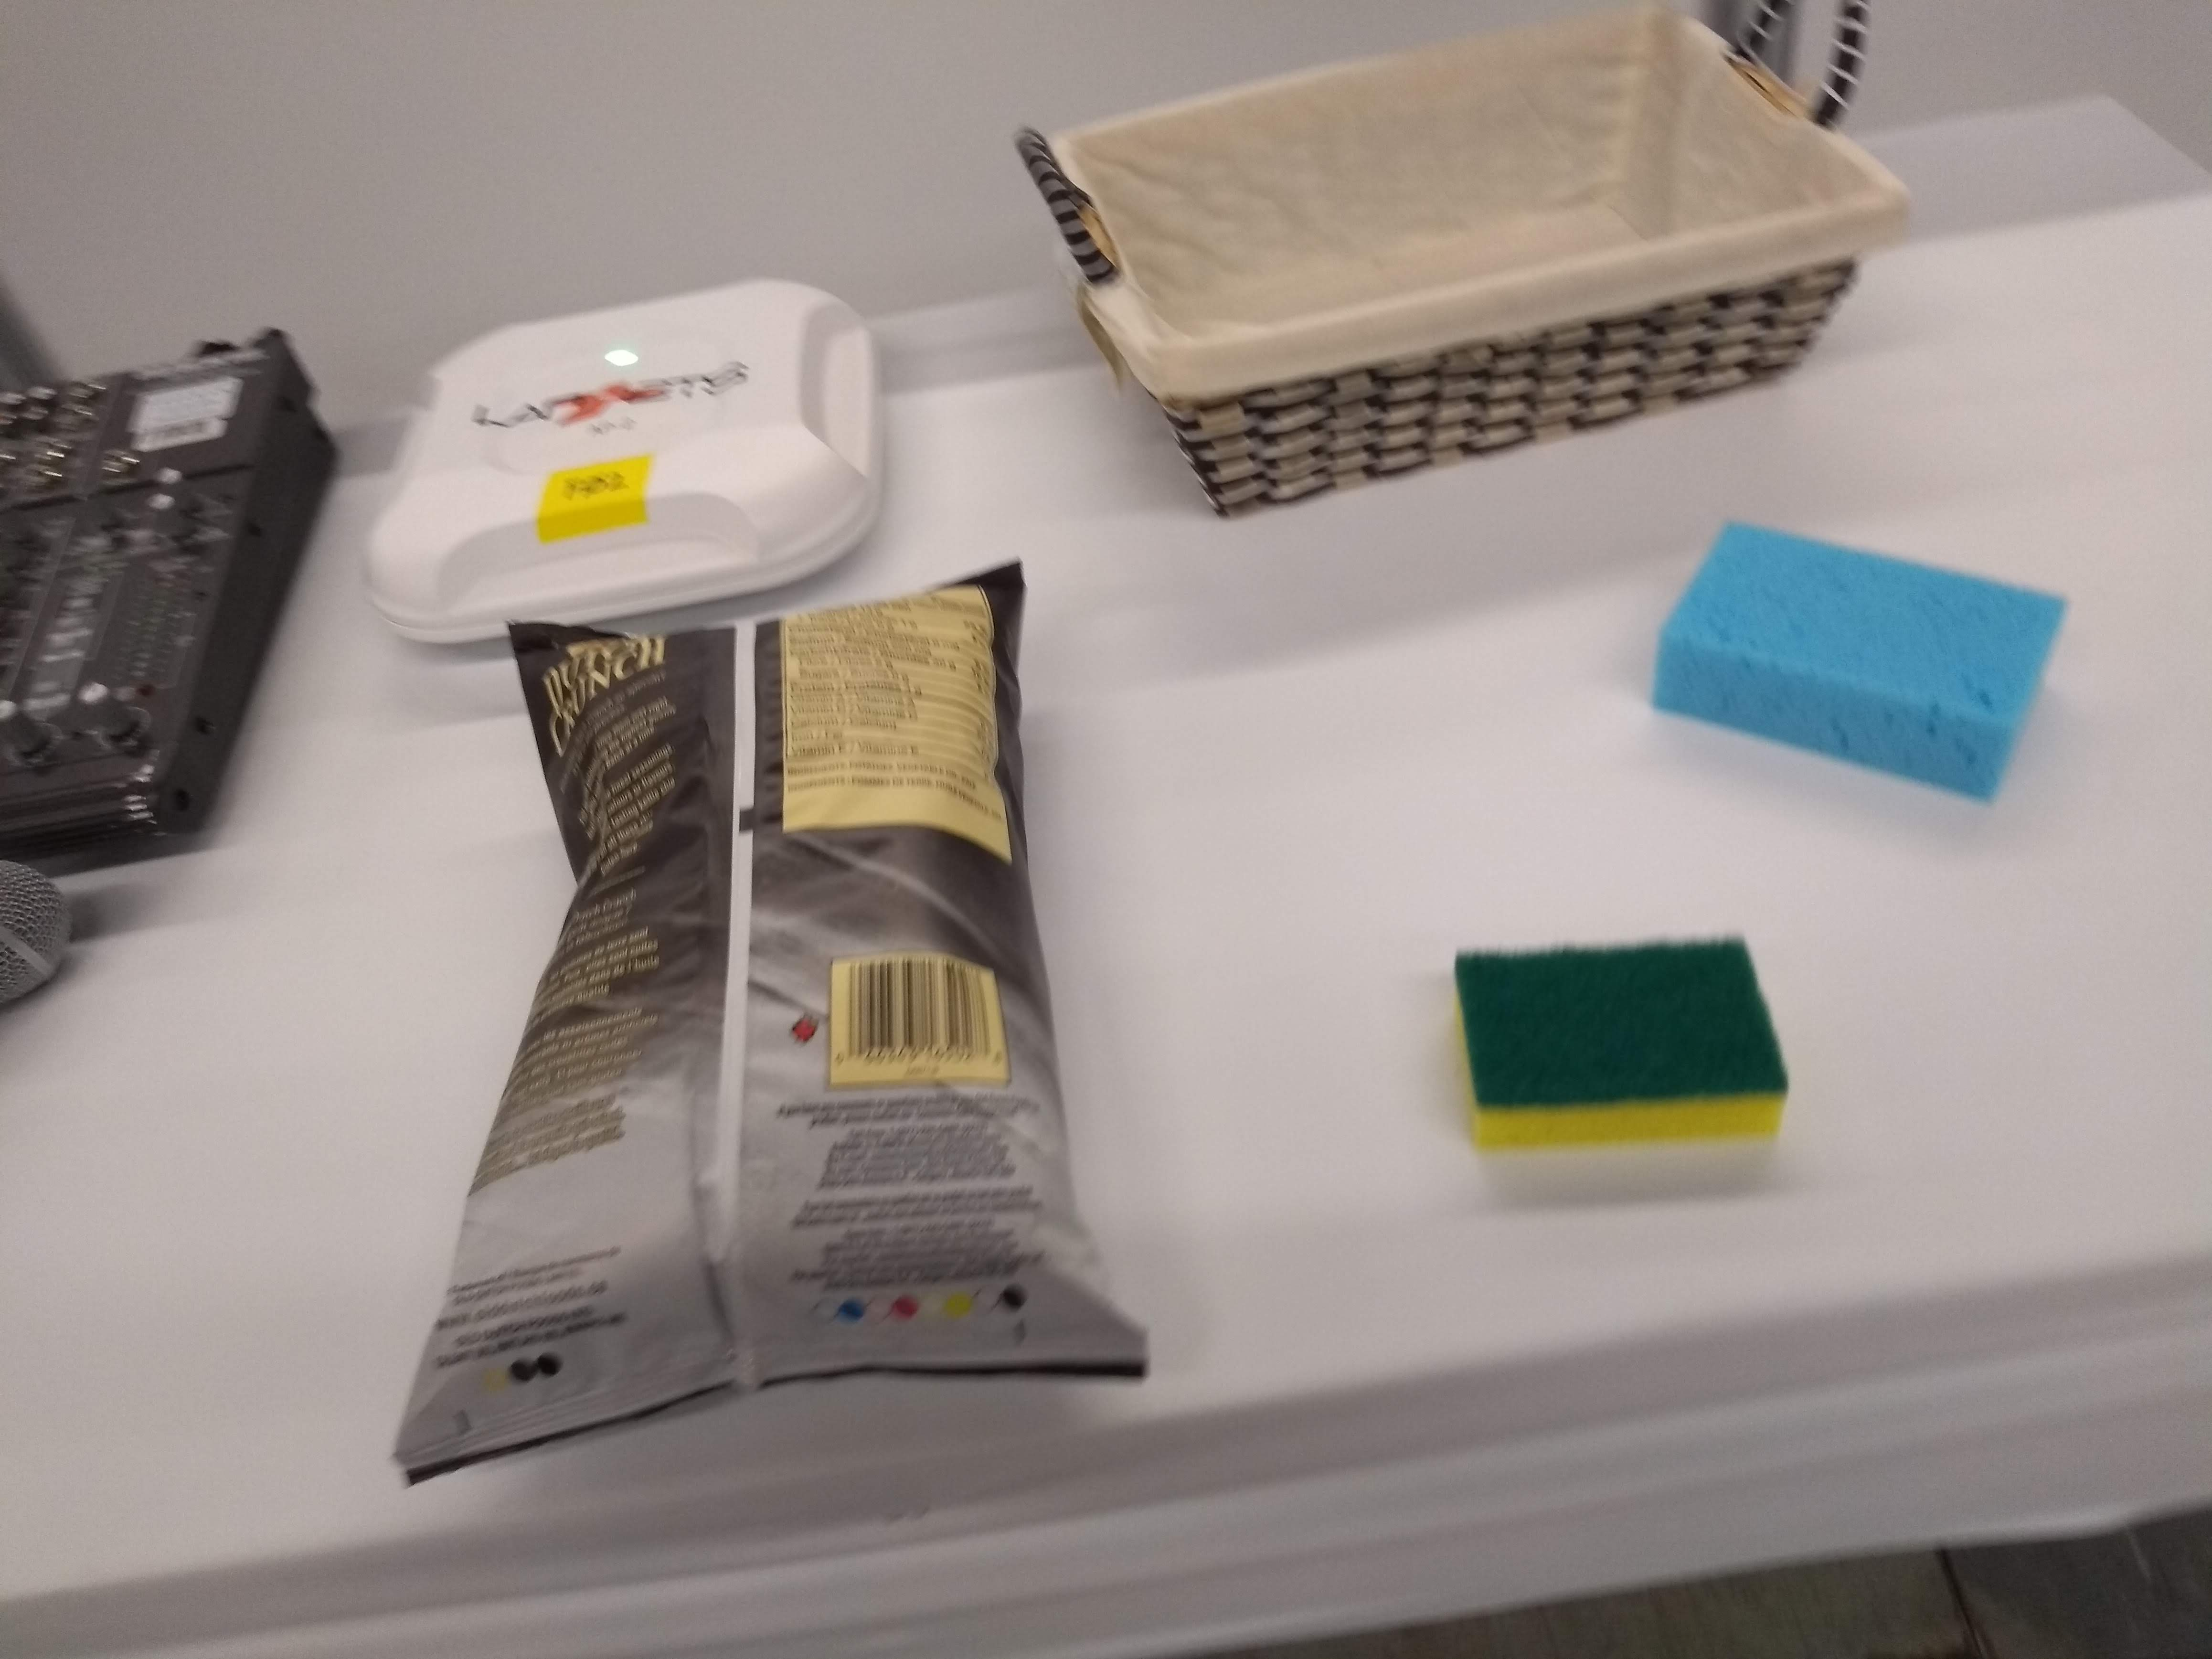potato_chips: (394, 538, 1160, 1486)
scrubby: (1435, 925, 1789, 1154)
sponge_opl: (1635, 507, 2081, 809)
